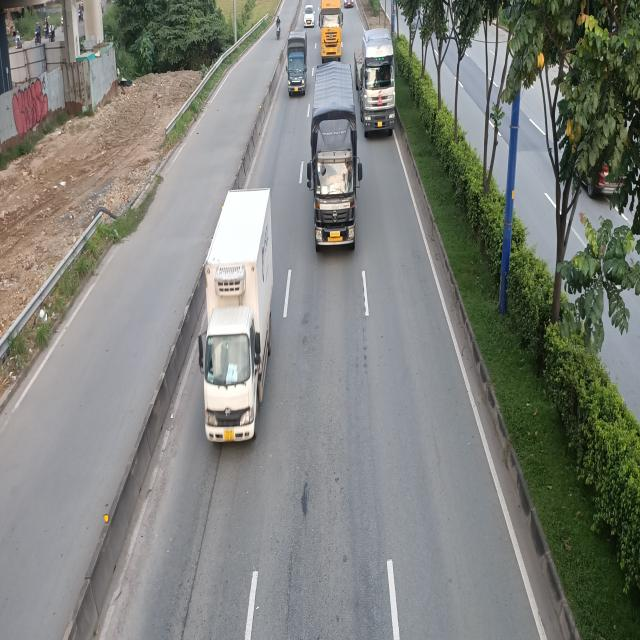car: (304, 3, 315, 28)
container: (355, 27, 395, 135), (318, 1, 344, 62)
truck: (200, 188, 274, 444), (310, 62, 364, 248), (285, 28, 307, 98)
